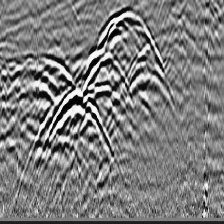cavities: (4, 4, 179, 178)
